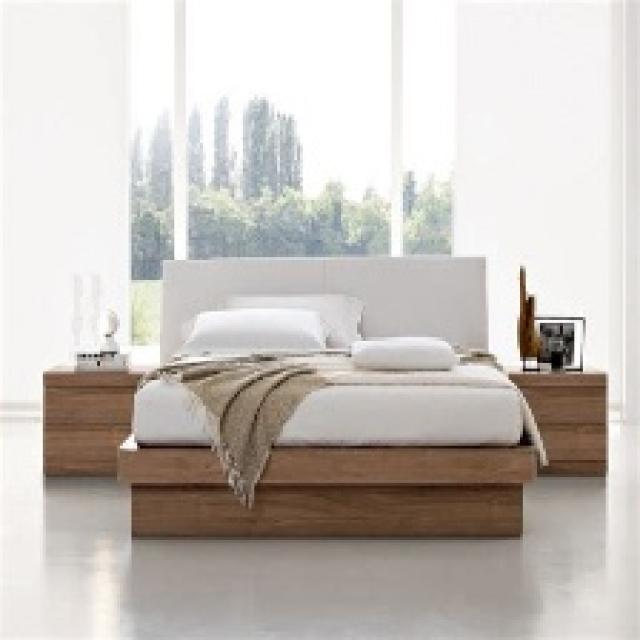Bed: (114, 254, 543, 537)
drawers: (48, 360, 132, 474), (520, 372, 607, 479)
